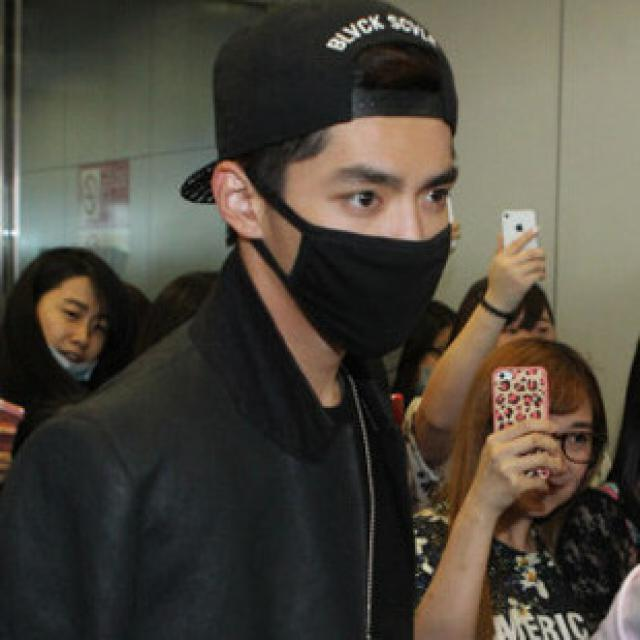mask: (268, 102, 458, 345)
nomask: (489, 366, 597, 512), (34, 277, 106, 368)
